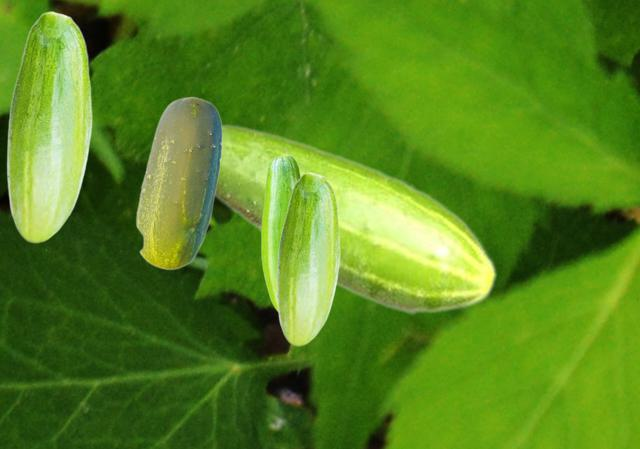cucumber: (215, 123, 497, 315), (6, 11, 91, 242), (135, 96, 221, 269), (276, 172, 339, 345), (261, 155, 300, 312)
